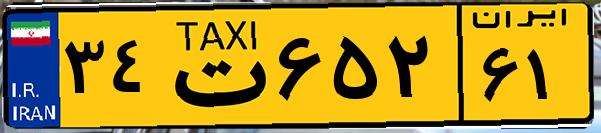1: (525, 38, 570, 115)
2: (385, 28, 445, 110)
3: (57, 26, 110, 100)
4: (110, 28, 158, 98)
5: (330, 28, 385, 110)
6: (270, 28, 330, 110), (475, 38, 525, 113)
ت: (158, 12, 270, 120)
